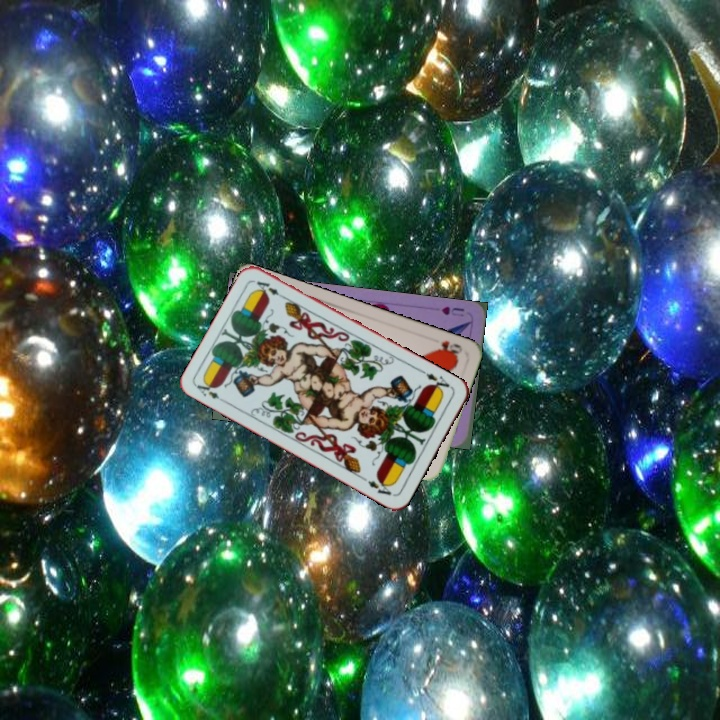EA: (193, 377, 230, 406), (417, 366, 452, 395)
HO: (433, 336, 465, 359)
HU: (437, 302, 467, 319)
